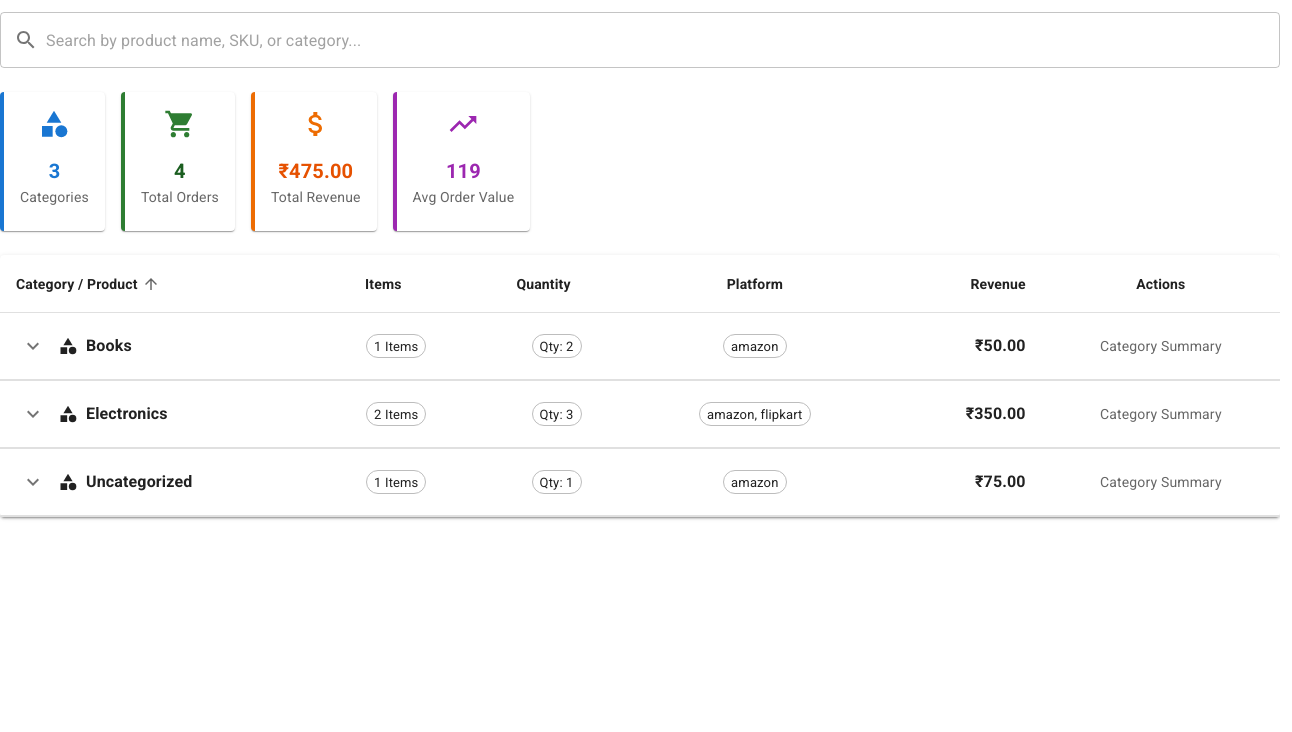
Test case: CategoryGroupedTable › displays empty state when no orders match search
Step 1. Type "NonExistent" into the field with placeholder "Search by product name, SKU, or category..." → (663, 40), box [46,12,1280,68]
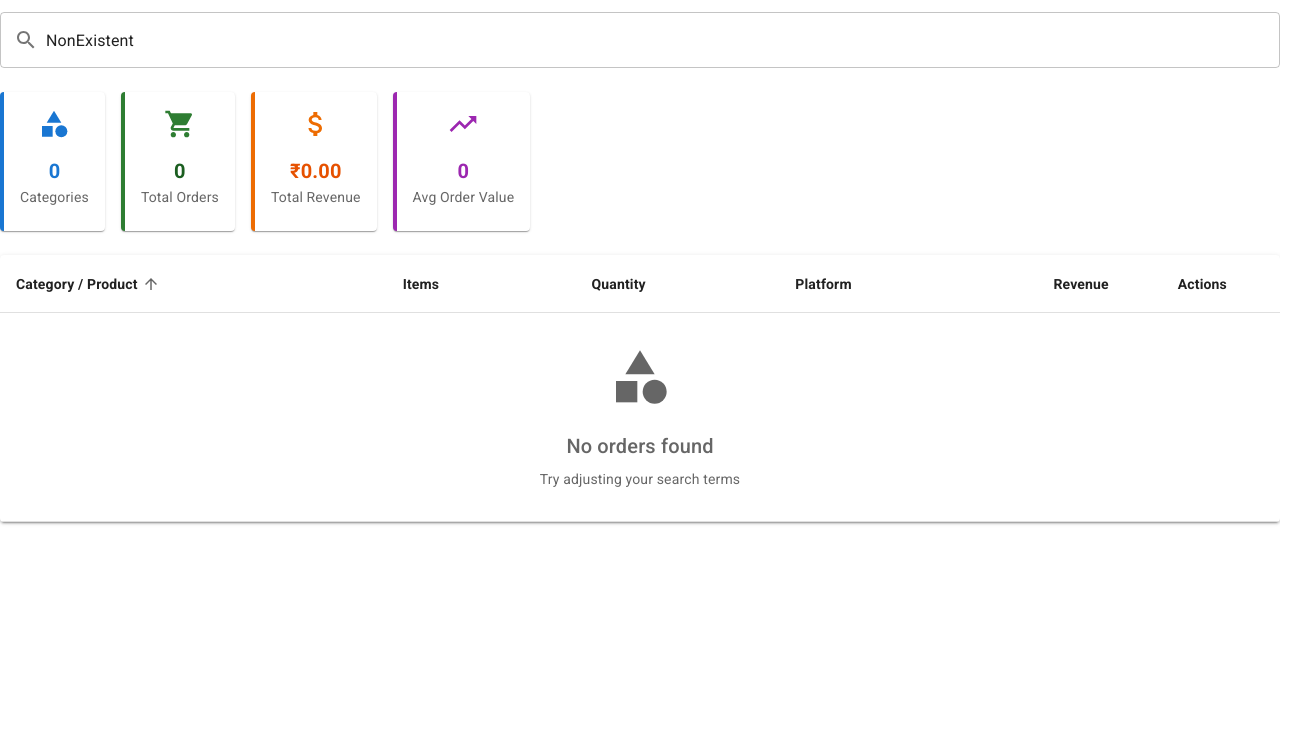
Now the heading "No orders found" is shown, box [566,434,714,458]
Now the text "Try adjusting your search terms" is shown, box [540,471,740,487]
